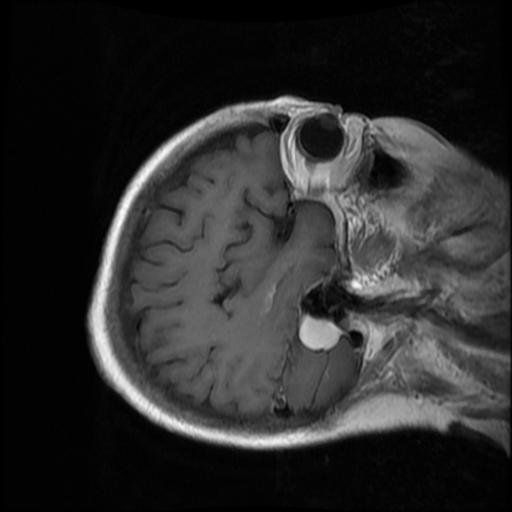meningioma: (297, 314, 341, 350)
